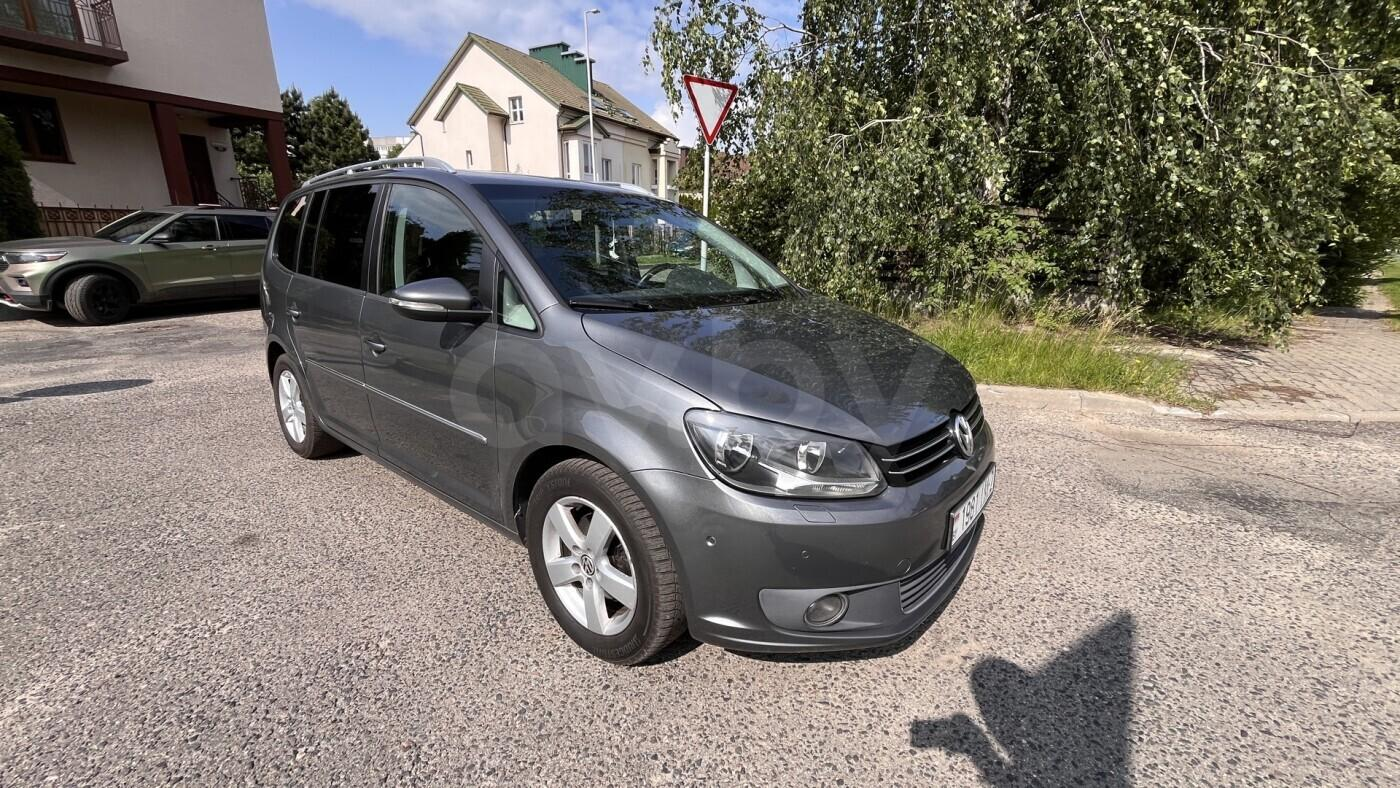Touran_2010-2015: (254, 157, 999, 670)
